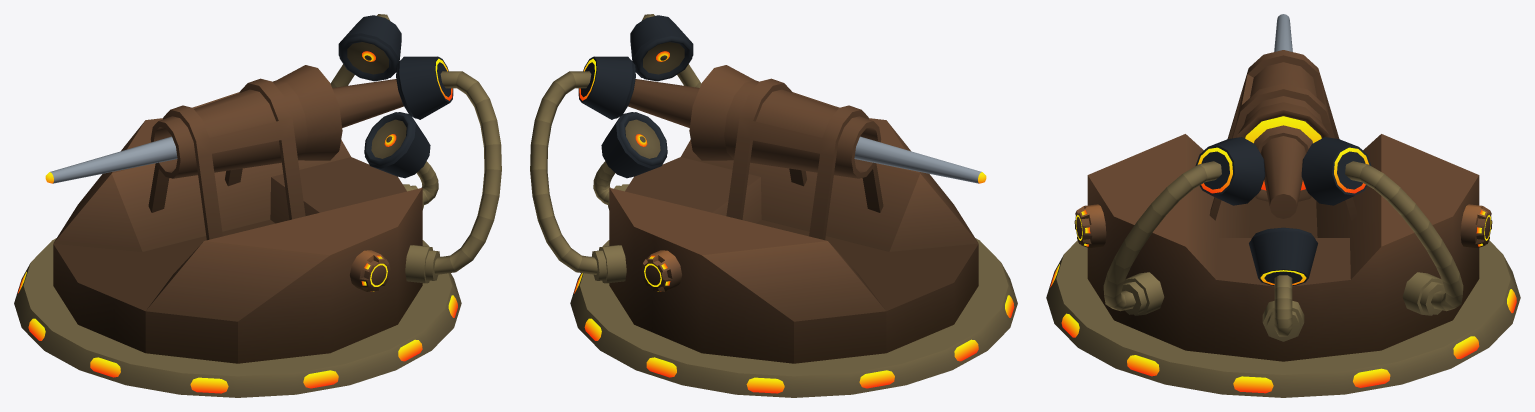
File: yellow_03.fbx
3 views of the same model, side by side, from view 1: azimuth 30°, elevation 25°; view 2: azimuth 150°, elevation 25°; view 3: azimuth 270°, elevation 25° (orthographic). The views are drawn at different scales.
Visible parts, largest first — view 1: yellow_03.001, yellow_03; view 2: yellow_03.001, yellow_03; view 3: yellow_03.001, yellow_03.
Boxes of the visible parts, x1=… form: yellow_03.001: x1=45, y1=14, x2=501, y2=363; yellow_03: x1=14, y1=238, x2=461, y2=397; yellow_03.001: x1=530, y1=14, x2=986, y2=363; yellow_03: x1=570, y1=238, x2=1017, y2=397; yellow_03.001: x1=1074, y1=14, x2=1492, y2=361; yellow_03: x1=1046, y1=240, x2=1520, y2=397.
Bounding box in the file's own units: 522 × 285 × 514.
